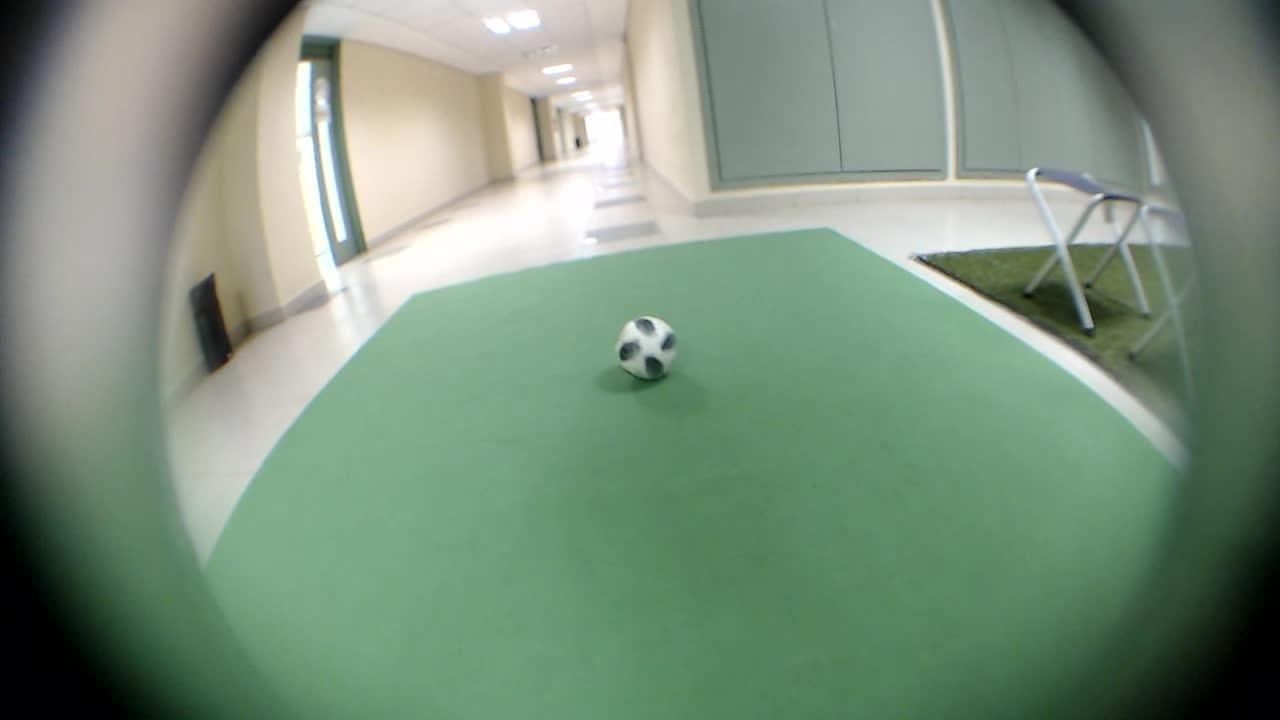ball: (609, 299, 691, 387)
